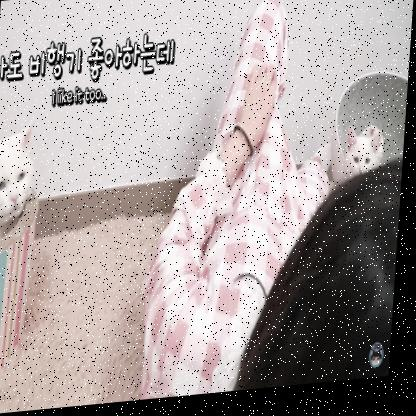streamer: (138, 0, 415, 404)
